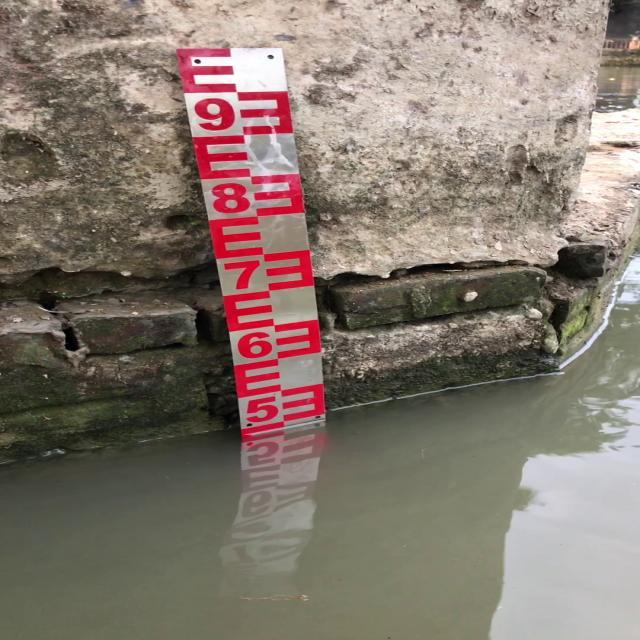ruler: (172, 39, 337, 442)
value: (203, 176, 259, 224), (187, 92, 243, 138), (215, 255, 270, 293), (233, 328, 279, 364), (242, 394, 286, 428)
